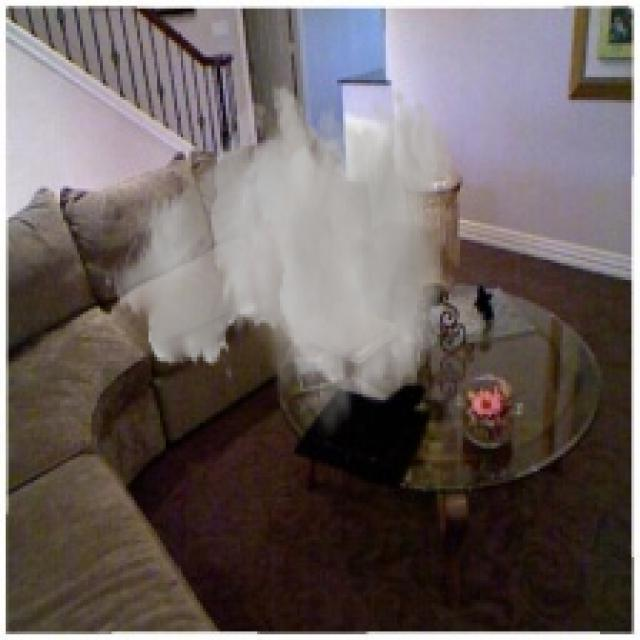Smoke: (102, 83, 454, 443)
